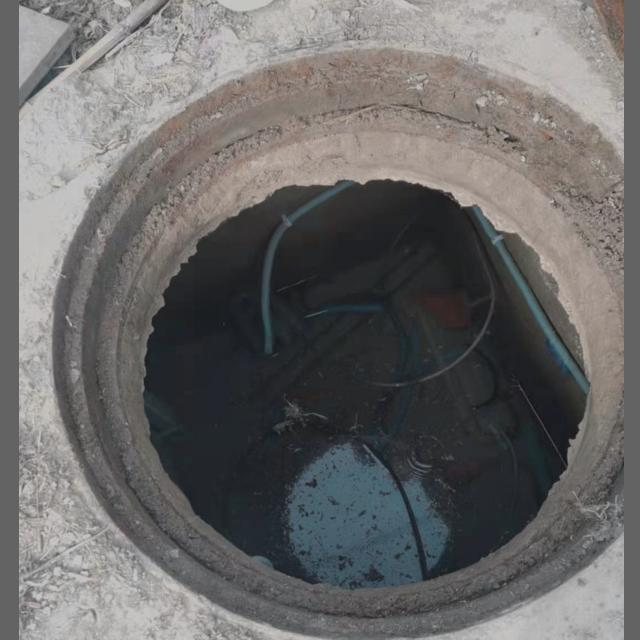lose: (59, 0, 612, 640)
